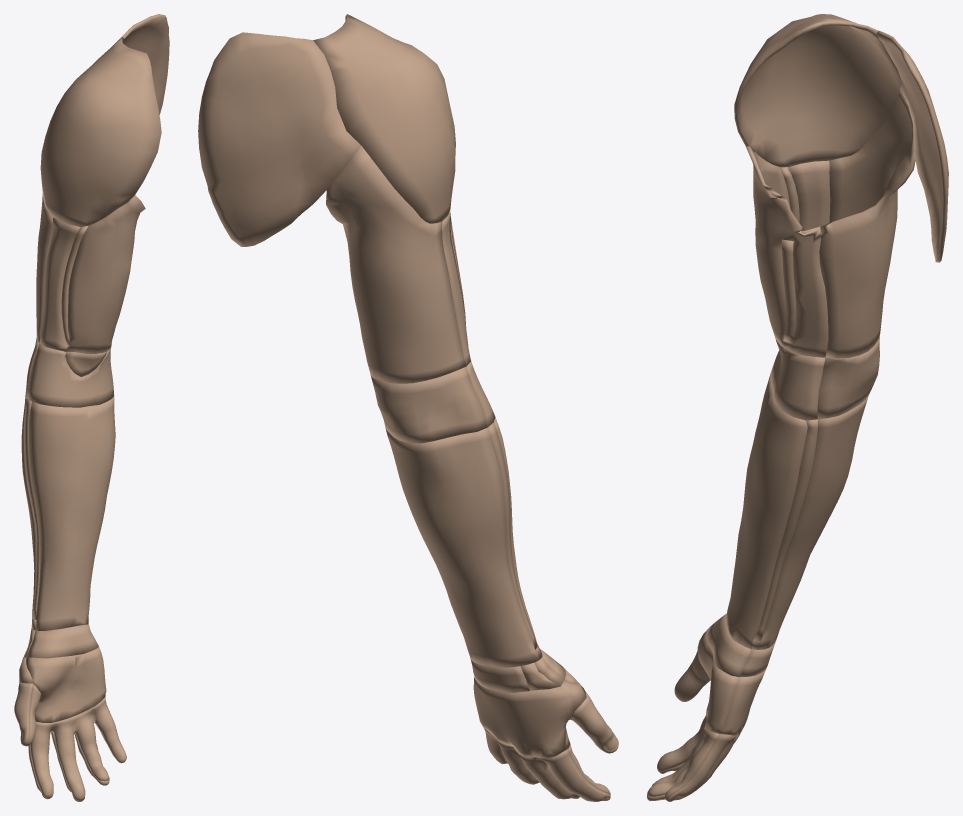
File: detail-integumentary-right-upper-limb.glb
3 views of the same model, side by side, from view 1: azimuth 30°, elevation 25°; view 2: azimuth 150°, elevation 25°; view 3: azimuth 270°, elevation 25° (orthographic). The views are drawn at different scales.
Parts seen in each view (by area): view 1: za-d739074c1bfeae03, za-17bf4bea0a9ee08c, za-74e3b4d1bf5aa598, za-6579383d6bd8e3ad, za-f358b67221dcf00c, za-4b0d7b01b0df8272, za-6be303e428a8cb5c, za-3808fbd3854c99ae, za-c01c29a00ab8aaf7, za-58babefad2694da9, za-67671db87661e510, za-dd80ed58c464de3a (+2 smaller); view 2: za-6be303e428a8cb5c, za-58babefad2694da9, za-b735a06ecc36e7d0, za-d739074c1bfeae03, za-57a87486a3f781a7, za-f016fcca003fbc58, za-c01c29a00ab8aaf7, za-982bcee5a9cfc43d, za-74e3b4d1bf5aa598, za-67671db87661e510; view 3: za-d739074c1bfeae03, za-58babefad2694da9, za-74e3b4d1bf5aa598, za-17bf4bea0a9ee08c, za-b735a06ecc36e7d0, za-6be303e428a8cb5c, za-6579383d6bd8e3ad, za-57a87486a3f781a7, za-4b0d7b01b0df8272, za-905a2994082fc54b, za-f358b67221dcf00c, za-3808fbd3854c99ae (+4 smaller).
Part boxes in pixels (x1,y1,x2,y2): za-d739074c1bfeae03: (40,37,161,227); za-17bf4bea0a9ee08c: (29,395,115,630); za-74e3b4d1bf5aa598: (39,195,145,354); za-6579383d6bd8e3ad: (27,684,126,801); za-f358b67221dcf00c: (26,647,106,722); za-4b0d7b01b0df8272: (26,343,113,407); za-6be303e428a8cb5c: (114,14,169,114); za-3808fbd3854c99ae: (26,624,98,658); za-c01c29a00ab8aaf7: (14,682,119,801); za-58babefad2694da9: (36,194,52,342); za-67671db87661e510: (24,398,40,619); za-dd80ed58c464de3a: (61,226,88,346); za-6be303e428a8cb5c: (198,32,361,246); za-58babefad2694da9: (326,146,466,383); za-b735a06ecc36e7d0: (385,427,541,667); za-d739074c1bfeae03: (313,14,455,223); za-57a87486a3f781a7: (370,366,487,443); za-f016fcca003fbc58: (473,677,586,758); za-c01c29a00ab8aaf7: (484,691,618,801); za-982bcee5a9cfc43d: (470,657,563,692); za-74e3b4d1bf5aa598: (442,210,470,365); za-67671db87661e510: (488,422,537,649); za-d739074c1bfeae03: (734,14,902,167); za-58babefad2694da9: (819,89,915,358); za-74e3b4d1bf5aa598: (746,146,830,357); za-17bf4bea0a9ee08c: (725,371,807,648); za-b735a06ecc36e7d0: (751,395,868,649); za-6be303e428a8cb5c: (876,30,948,262); za-6579383d6bd8e3ad: (647,651,719,799); za-57a87486a3f781a7: (817,335,879,419); za-4b0d7b01b0df8272: (770,346,825,420); za-905a2994082fc54b: (753,419,817,641); za-f358b67221dcf00c: (697,628,739,733); za-3808fbd3854c99ae: (707,613,751,676).
Bounding box in the file's own units: 0.2853 × 0.7376 × 0.2359.
